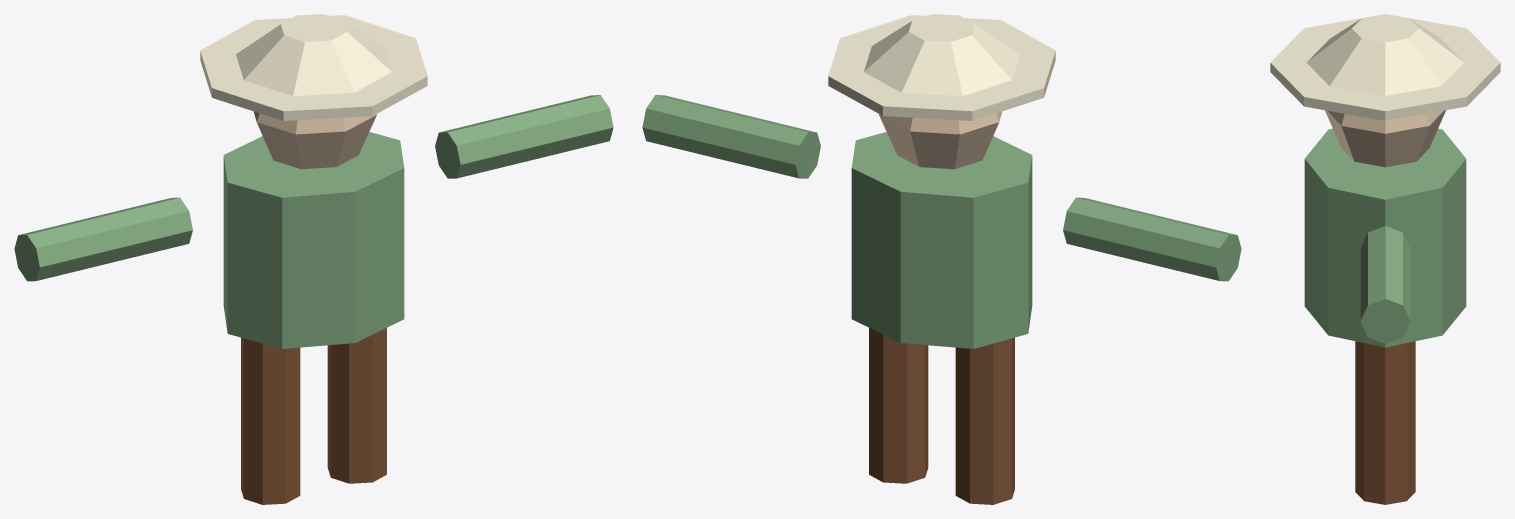
Rendered from fruit_seller.glb.
The picture shows the model from 3 angles, left to right: view 1: azimuth 30°, elevation 25°; view 2: azimuth 150°, elevation 25°; view 3: azimuth 270°, elevation 25°; orthographic projection. The views are drawn at different scales.
Visible parts, largest first — view 1: fruit_seller; view 2: fruit_seller; view 3: fruit_seller.
Boxes of the visible parts, bbox=[...] form: fruit_seller: bbox=[14, 14, 613, 504]; fruit_seller: bbox=[642, 14, 1241, 504]; fruit_seller: bbox=[1270, 14, 1500, 504].
Bounding box in the file's own units: 2.14 × 1.62 × 0.7624.
